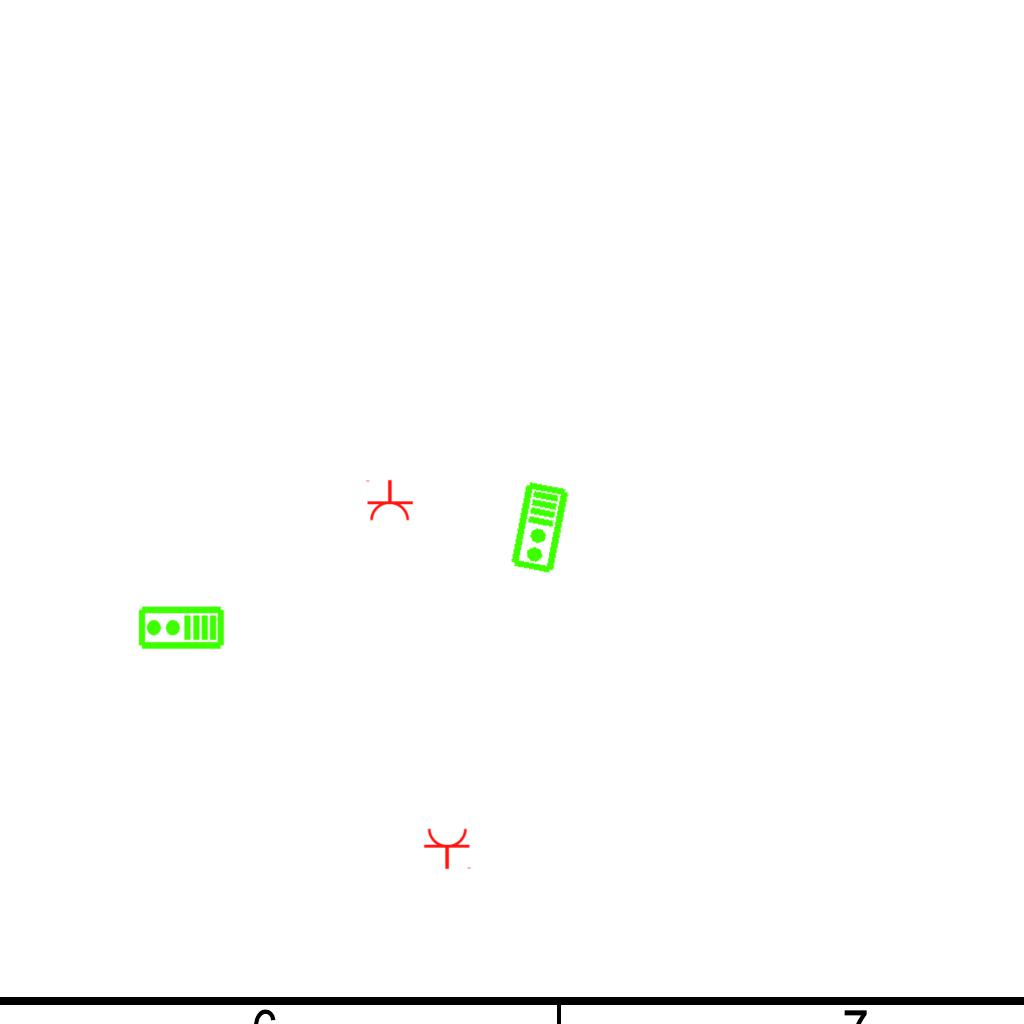Gegensprechanlage_mit_Video: (509, 480, 572, 576), (137, 605, 225, 652)
Schukosteckdose_einfach: (364, 479, 414, 522), (423, 827, 473, 870)
